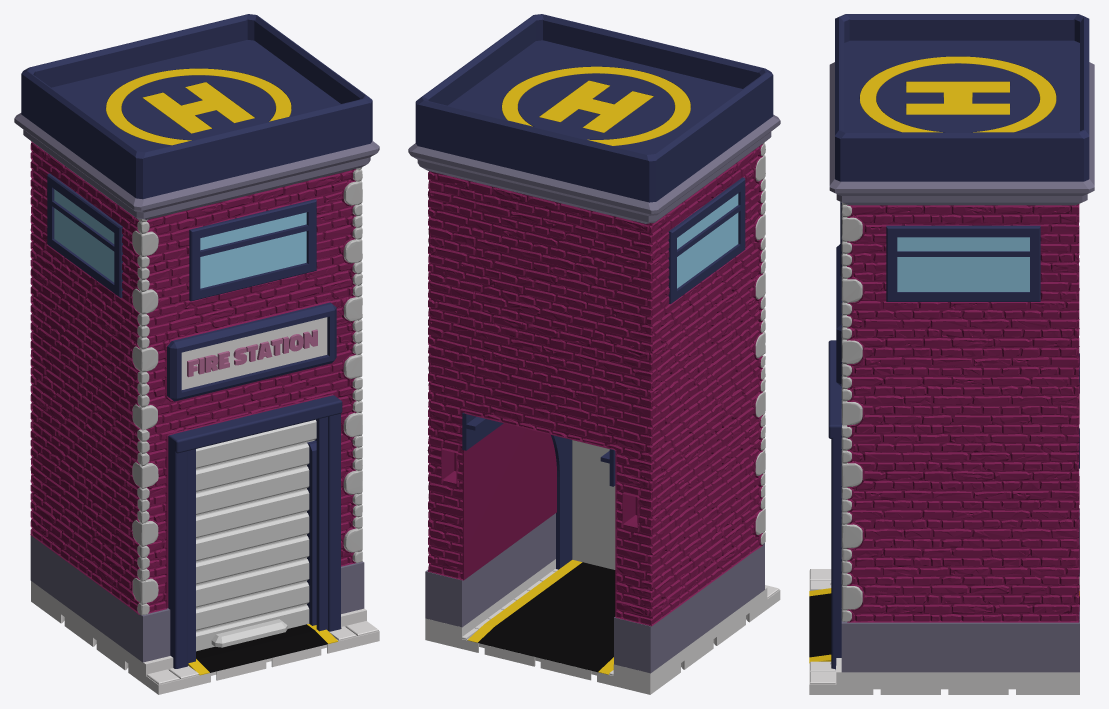
The model's file is fire print .glb.
3 renders of one model, left to right at view 1: azimuth 30°, elevation 25°; view 2: azimuth 150°, elevation 25°; view 3: azimuth 270°, elevation 25°, orthographic. The views are drawn at different scales.
Visible parts, largest first — view 1: main buildign (1) 2, Körper1: 22, Körper1: 24, sockel dach, Körper1: 7, LIGHT_H_window, PLACEMENT_PLATE, Light_V, Körper1: 29, Körper1: 28, light_v_2, Körper 2 (+17 smaller); view 2: main buildign (1) 2, Körper1: 22, Körper1: 7, floor, sockel dach, PLACEMENT_PLATE, Light_V, Körper1: 14, Körper1: 24, Körper1: 27, LIGHT_H_window, Körper 2 (+6 smaller); view 3: main buildign (1) 2, Körper1: 22, Körper1: 7, sockel dach, PLACEMENT_PLATE, LIGHT_H_window, Light_V, Körper1: 26, Körper1: 24, Körper 1, Körper 5, floor (+1 smaller).
Boxes of the visible parts, box(x1,y1,x2,y2) form: main buildign (1) 2: box(30, 141, 356, 614); Körper1: 22: box(21, 14, 372, 199); Körper1: 24: box(168, 395, 342, 668); sockel dach: box(14, 113, 379, 219); Körper1: 7: box(30, 535, 364, 662); LIGHT_H_window: box(54, 189, 306, 288); PLACEMENT_PLATE: box(31, 581, 379, 694); Light_V: box(106, 68, 291, 145); Körper1: 29: box(167, 302, 336, 401); Körper1: 28: box(189, 199, 316, 301); light_v_2: box(181, 317, 327, 389); Körper 2: box(132, 219, 158, 430); main buildign (1) 2: box(427, 144, 763, 626); Körper1: 22: box(415, 14, 773, 202); Körper1: 7: box(425, 513, 764, 673); floor: box(478, 562, 615, 672); sockel dach: box(408, 114, 780, 223); PLACEMENT_PLATE: box(425, 559, 780, 694); Light_V: box(502, 66, 690, 145); Körper1: 14: box(572, 440, 615, 569); Körper1: 24: box(462, 412, 615, 569); Körper1: 27: box(668, 177, 745, 303); LIGHT_H_window: box(677, 193, 738, 288); Körper 2: box(755, 143, 765, 358); main buildign (1) 2: box(847, 204, 1079, 622); Körper1: 22: box(835, 14, 1089, 181); Körper1: 7: box(841, 509, 1079, 672); sockel dach: box(829, 62, 1094, 205); PLACEMENT_PLATE: box(809, 569, 1079, 694); LIGHT_H_window: box(897, 237, 1029, 291); Light_V: box(860, 56, 1056, 132); Körper1: 26: box(886, 225, 1040, 301); Körper1: 24: box(828, 340, 1079, 669); Körper 1: box(841, 202, 862, 425); Körper 5: box(841, 425, 862, 621); floor: box(809, 593, 1079, 657).
Size of the model in its own units: 111 by 230 by 105.
